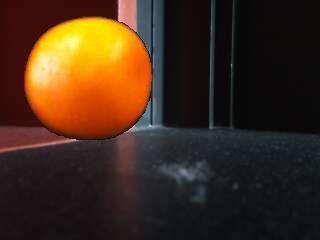Orange: (23, 17, 153, 141)
